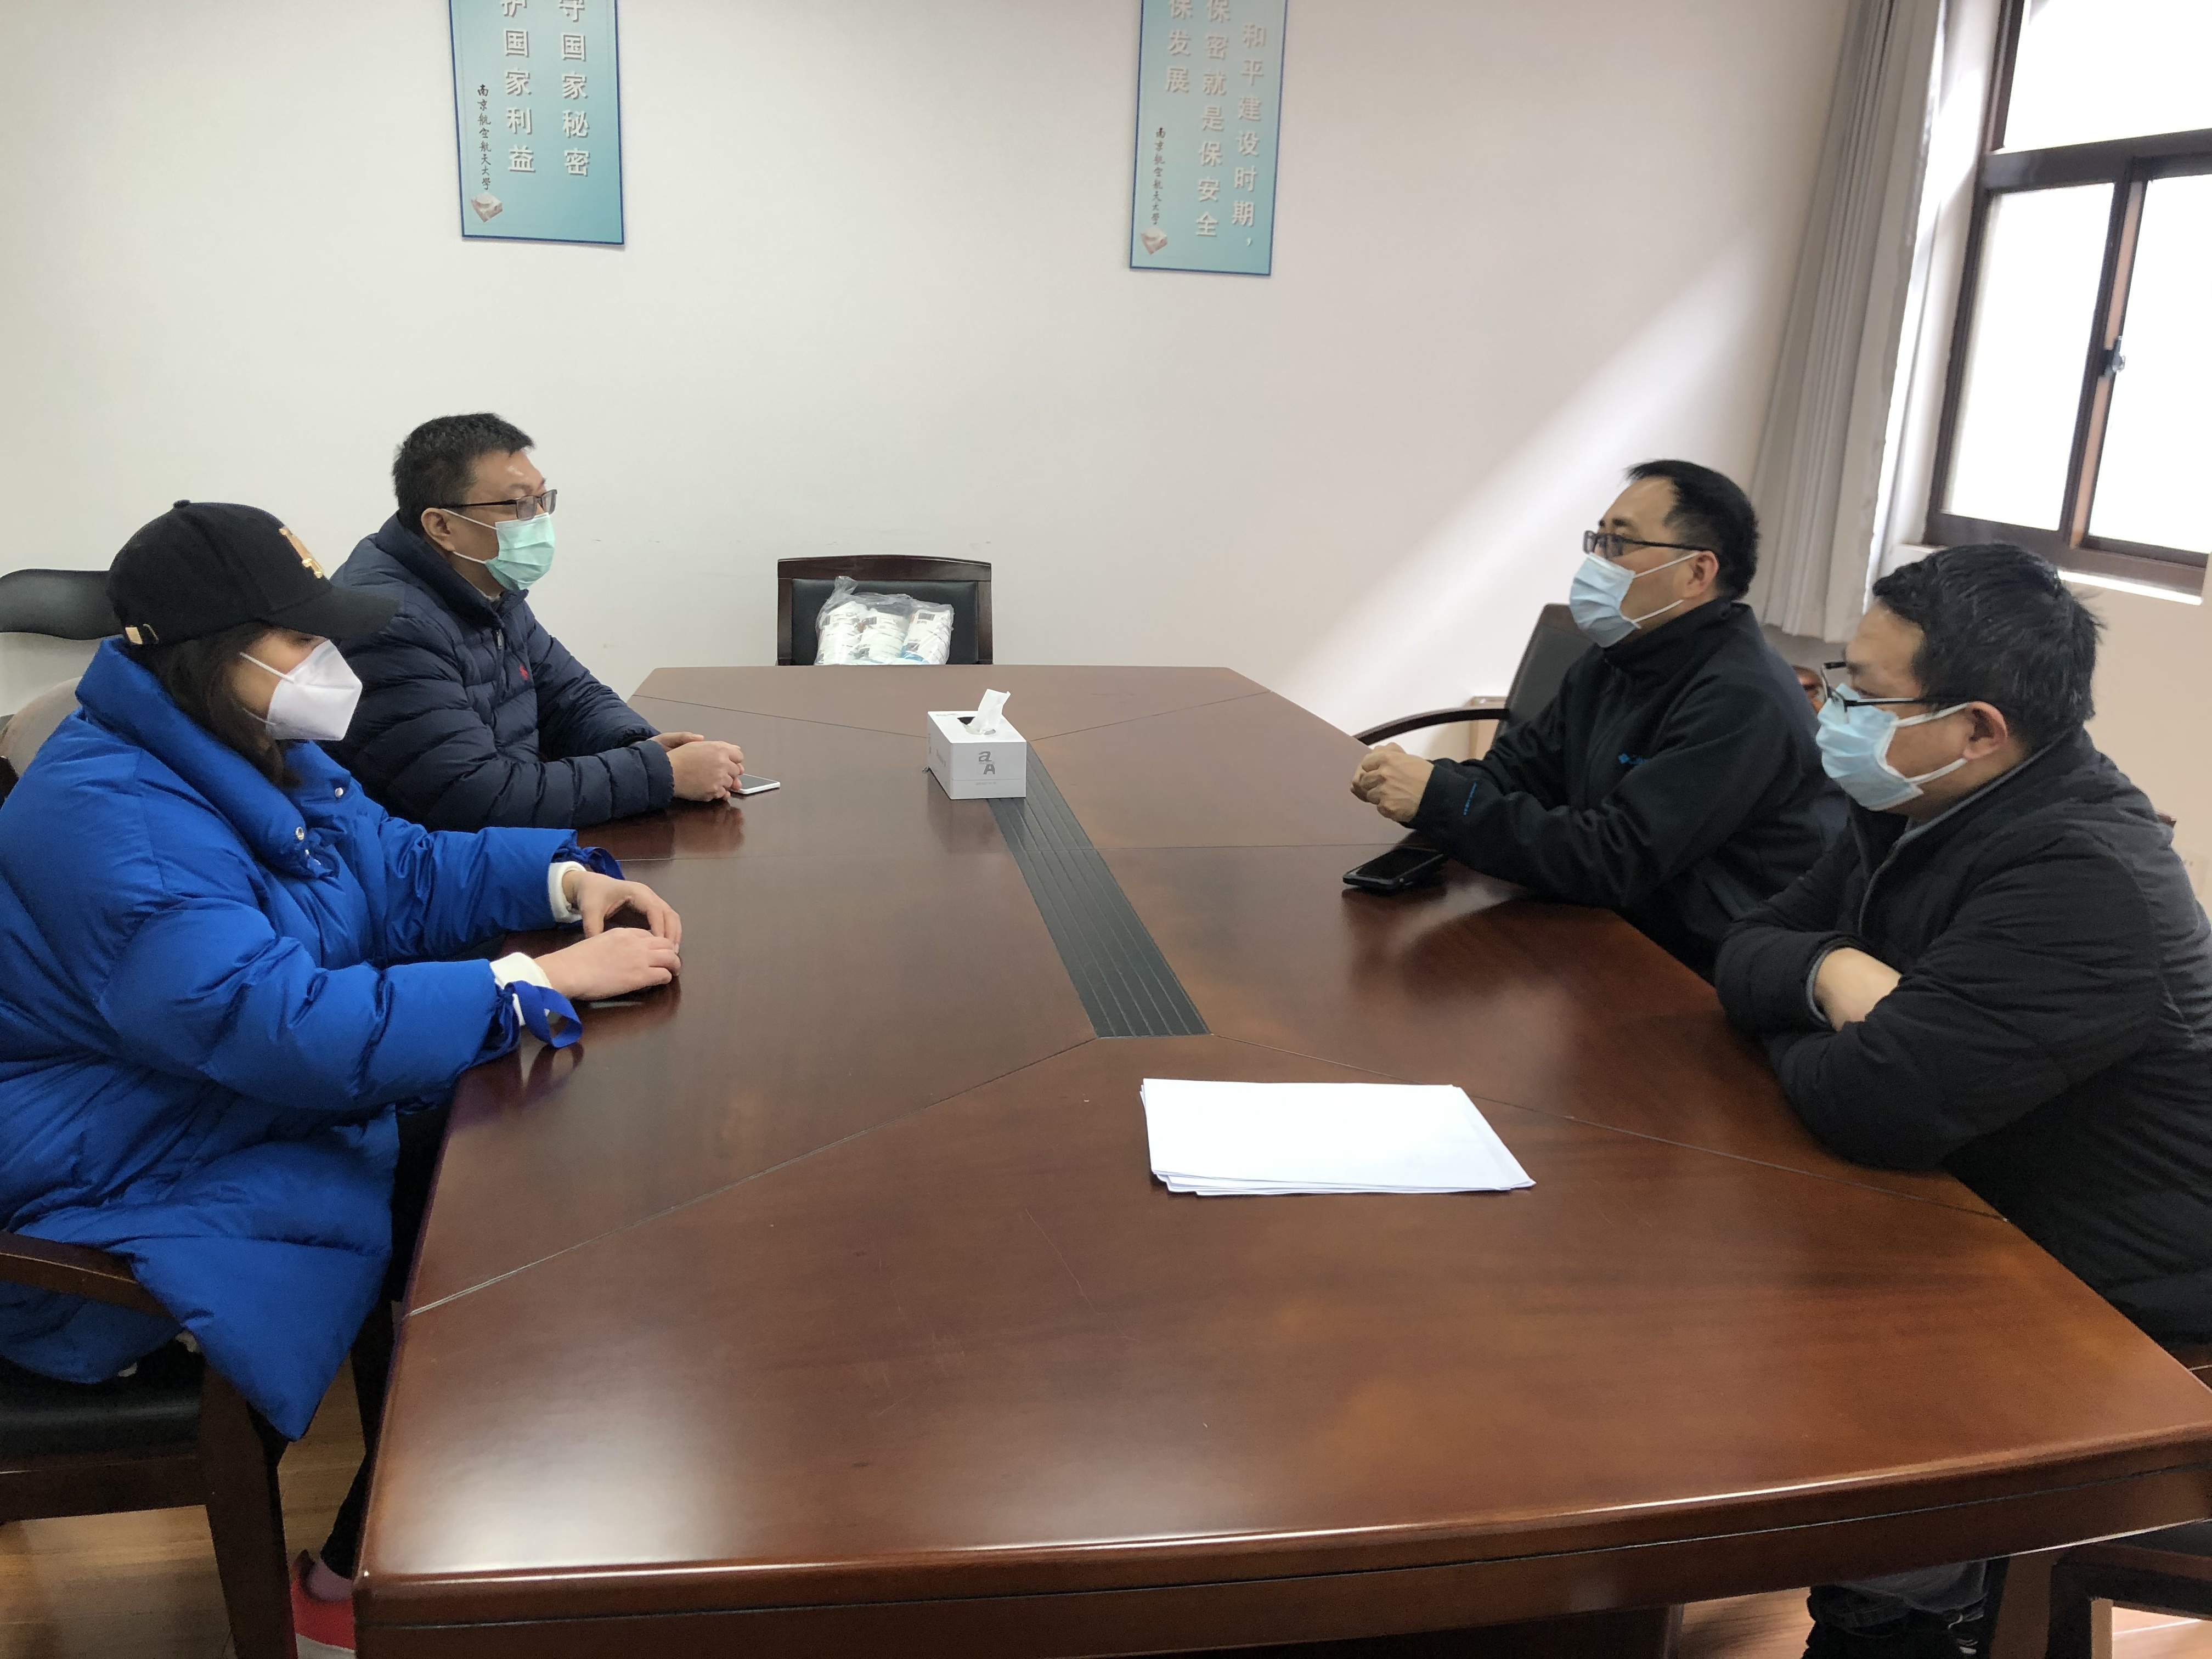correctlyWear: (1808, 634, 2013, 814), (197, 586, 362, 749), (1564, 505, 1719, 650), (420, 469, 559, 596)
